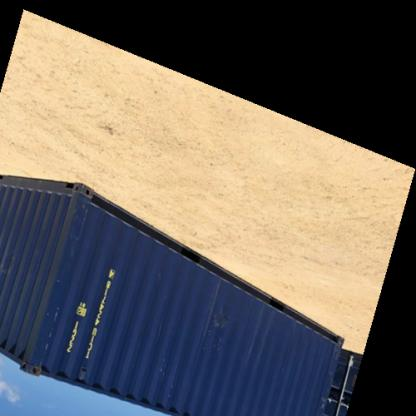Damage: (35, 209, 82, 361), (191, 286, 241, 354), (150, 346, 186, 398)
